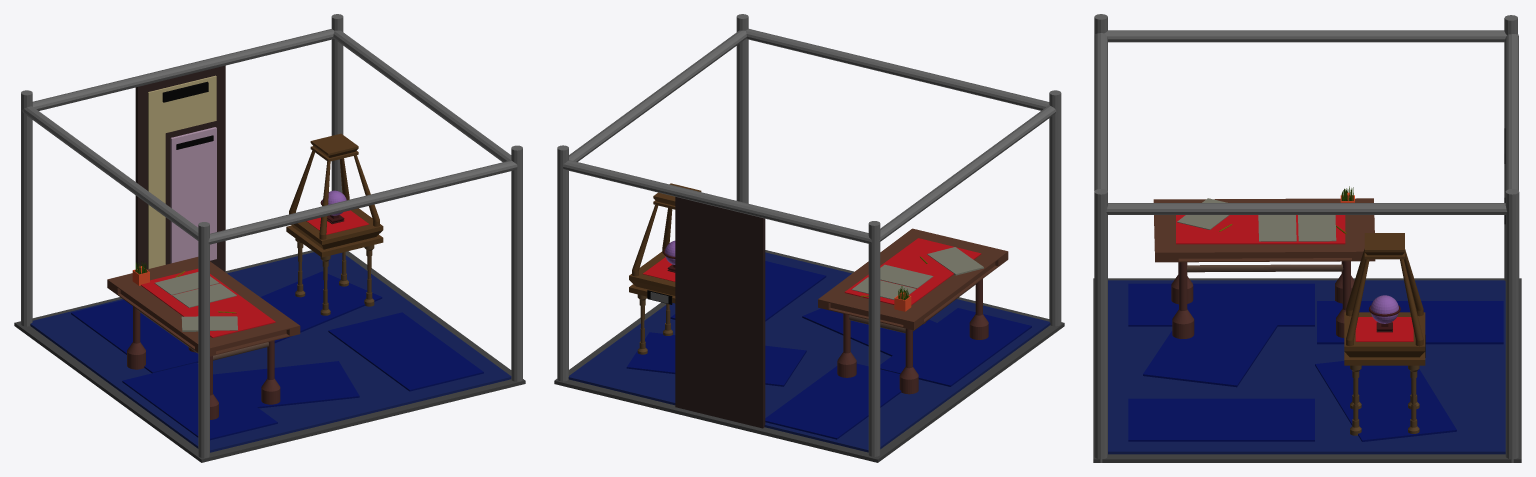
Rendered from NEW!Artifacts_Stands.fbx.
3 views of the same model, side by side, from view 1: azimuth 30°, elevation 25°; view 2: azimuth 150°, elevation 25°; view 3: azimuth 270°, elevation 25° (orthographic). The views are drawn at different scales.
Parts seen in each view (by area): view 1: Cube.040, Cylinder.017, Cube.024, Cube.029, Cube.030, Cube.037, Cube.032, Cube.031, Cylinder.010, Cube.038, Cube.035, Cylinder.011 (+2 smaller); view 2: Cylinder.017, Cube.030, Cube.040, Cube.024, Cube.029, Cube.037, Cube.038, Cylinder.011, Cube.035, Cylinder.010, Cylinder.008; view 3: Cube.040, Cube.024, Cylinder.017, Cube.037, Cube.029, Cylinder.010, Cube.038, Cube.035, Cylinder.011, Cylinder.009, Cube.028, Cylinder.008 (+1 smaller).
Part boxes in pixels (bbox=[...]): Cube.040: bbox=[71, 271, 483, 440]; Cylinder.017: bbox=[21, 14, 522, 458]; Cube.024: bbox=[30, 252, 511, 452]; Cube.029: bbox=[14, 250, 525, 462]; Cube.030: bbox=[135, 65, 225, 271]; Cube.037: bbox=[107, 257, 300, 356]; Cube.032: bbox=[170, 127, 216, 263]; Cube.031: bbox=[148, 75, 216, 268]; Cylinder.010: bbox=[286, 133, 383, 257]; Cube.038: bbox=[141, 268, 275, 337]; Cube.035: bbox=[154, 272, 237, 331]; Cylinder.011: bbox=[127, 306, 280, 419]; Cylinder.017: bbox=[557, 14, 1061, 456]; Cube.030: bbox=[675, 197, 765, 428]; Cube.040: bbox=[626, 261, 1031, 439]; Cube.024: bbox=[568, 252, 1050, 452]; Cube.029: bbox=[554, 250, 1064, 462]; Cube.037: bbox=[818, 228, 1008, 330]; Cube.038: bbox=[844, 238, 981, 305]; Cylinder.011: bbox=[837, 279, 988, 394]; Cube.035: bbox=[851, 247, 983, 299]; Cylinder.010: bbox=[629, 183, 701, 303]; Cylinder.008: bbox=[637, 294, 672, 354]; Cube.040: bbox=[1128, 283, 1503, 441]; Cube.024: bbox=[1108, 280, 1505, 454]; Cylinder.017: bbox=[1094, 14, 1519, 462]; Cube.037: bbox=[1153, 198, 1375, 262]; Cube.029: bbox=[1093, 278, 1521, 462]; Cylinder.010: bbox=[1344, 233, 1425, 365]; Cube.038: bbox=[1176, 215, 1345, 244]; Cube.035: bbox=[1177, 198, 1336, 241]; Cylinder.011: bbox=[1171, 261, 1354, 338]; Cylinder.009: bbox=[1187, 264, 1343, 272]; Cube.028: bbox=[1355, 317, 1413, 341]; Cylinder.008: bbox=[1350, 365, 1419, 435].
Size of the model in its own units: 740 by 511 by 739.
